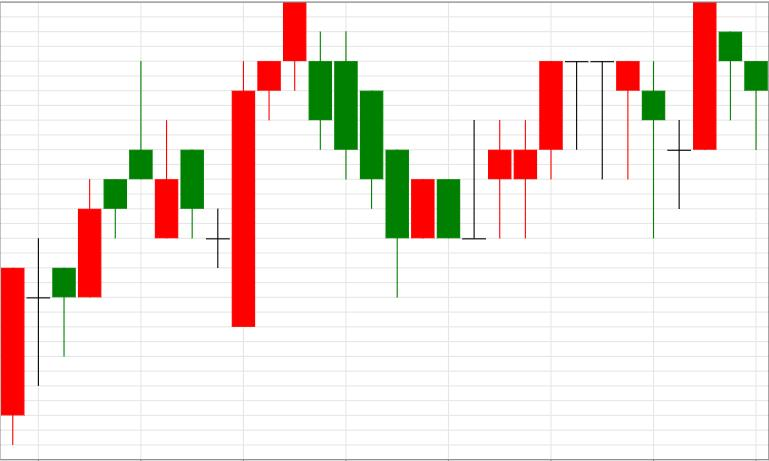hanging_man_fall: (488, 61, 639, 238)
shooting_star_fall: (26, 60, 153, 386)
